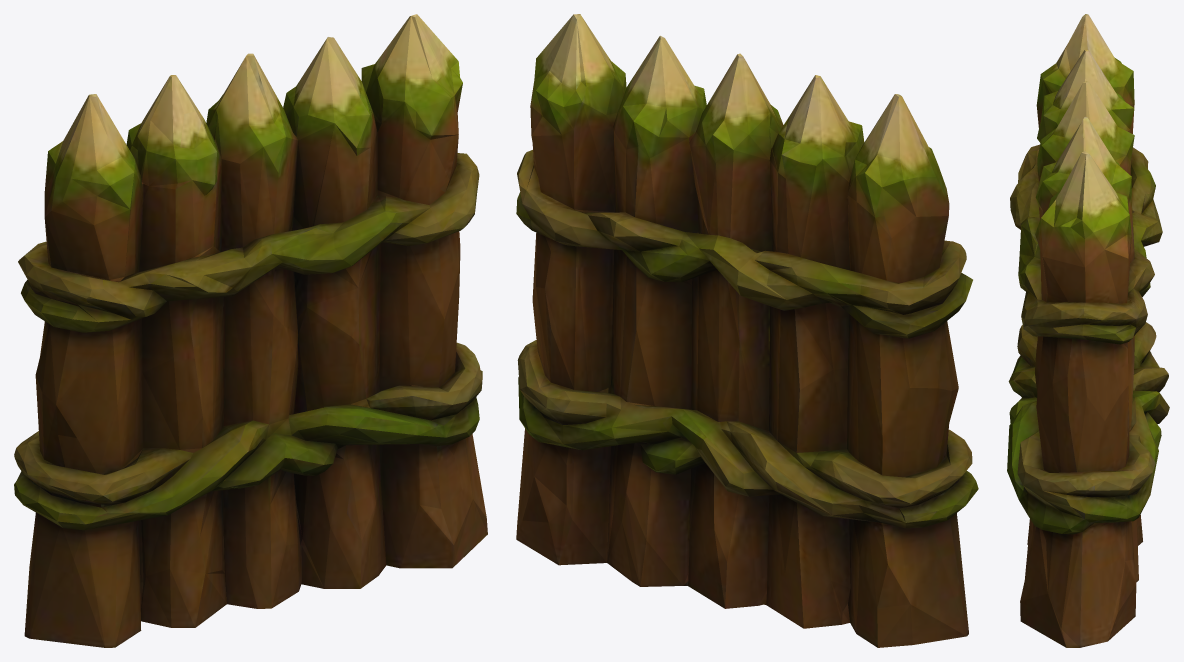
The model's file is d_racines_barriere.glb.
3 renders of one model, left to right at view 1: azimuth 30°, elevation 25°; view 2: azimuth 150°, elevation 25°; view 3: azimuth 270°, elevation 25°, orthographic. The views are drawn at different scales.
Visible parts, largest first — view 1: geometry_0; view 2: geometry_0; view 3: geometry_0.
Boxes of the visible parts, <box> form: geometry_0: <box>14,14,487,647</box>; geometry_0: <box>516,14,978,647</box>; geometry_0: <box>1007,14,1169,647</box>.
Size of the model in its own units: 0.8973 by 0.9992 by 0.3148.
Materials: 1 (1 with a texture image).
